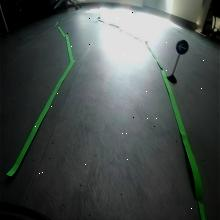left: (176, 40, 189, 54)
